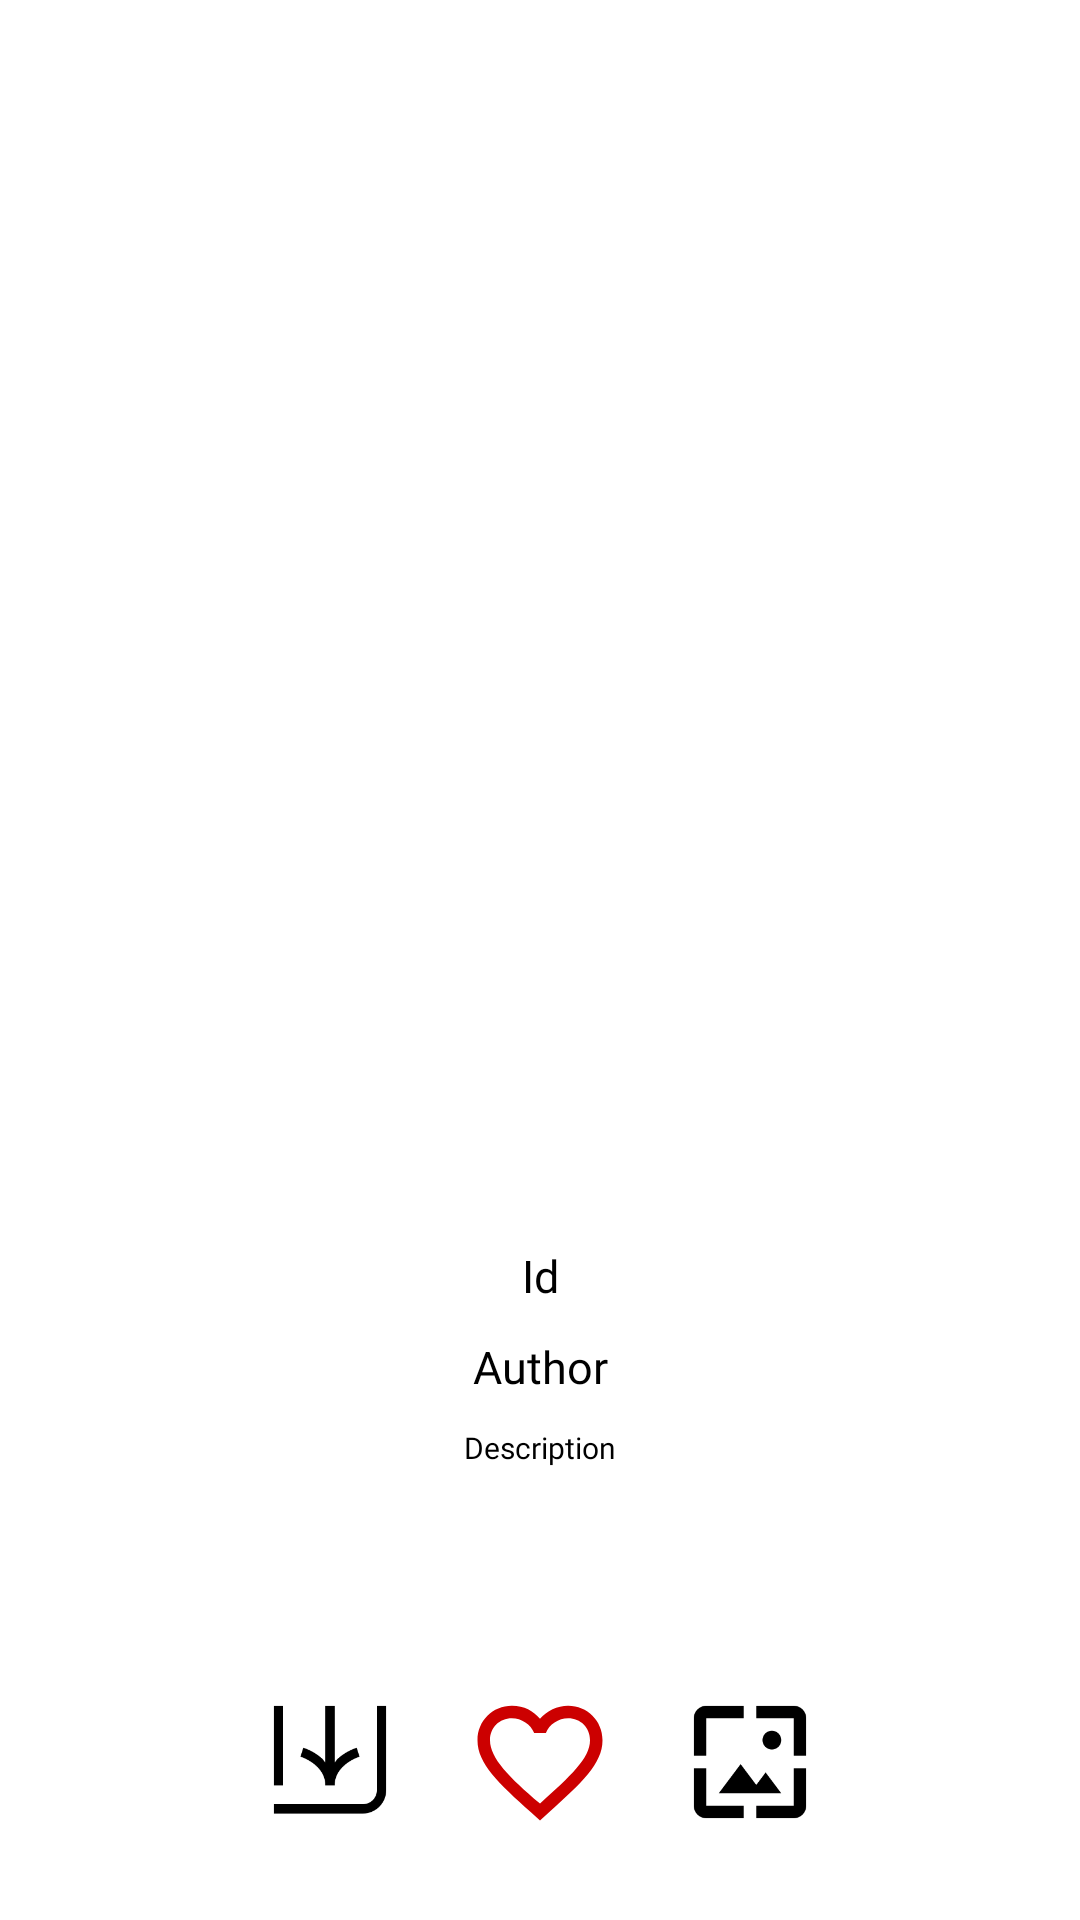

Where icons sit on this 1080px×1920px app screen, as (left=x1, top=y1, right=x2, bottom=y2):
download: (left=274, top=1706, right=386, bottom=1814)
favorite border: (left=477, top=1705, right=603, bottom=1821)
